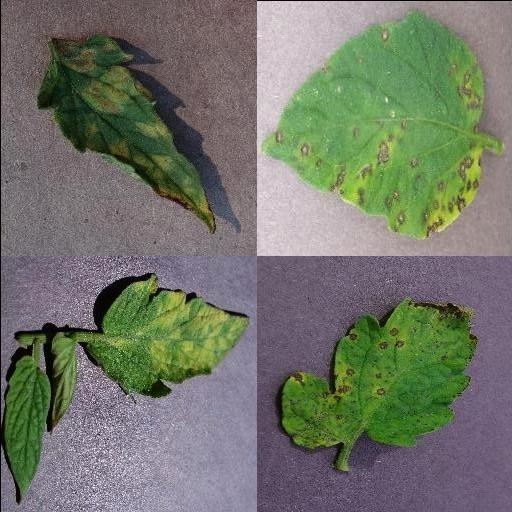Healthy: (0, 357, 49, 506)
Leaf Mold: (35, 36, 215, 234), (84, 274, 252, 407)
Septoria: (261, 11, 484, 237), (278, 297, 478, 451)
